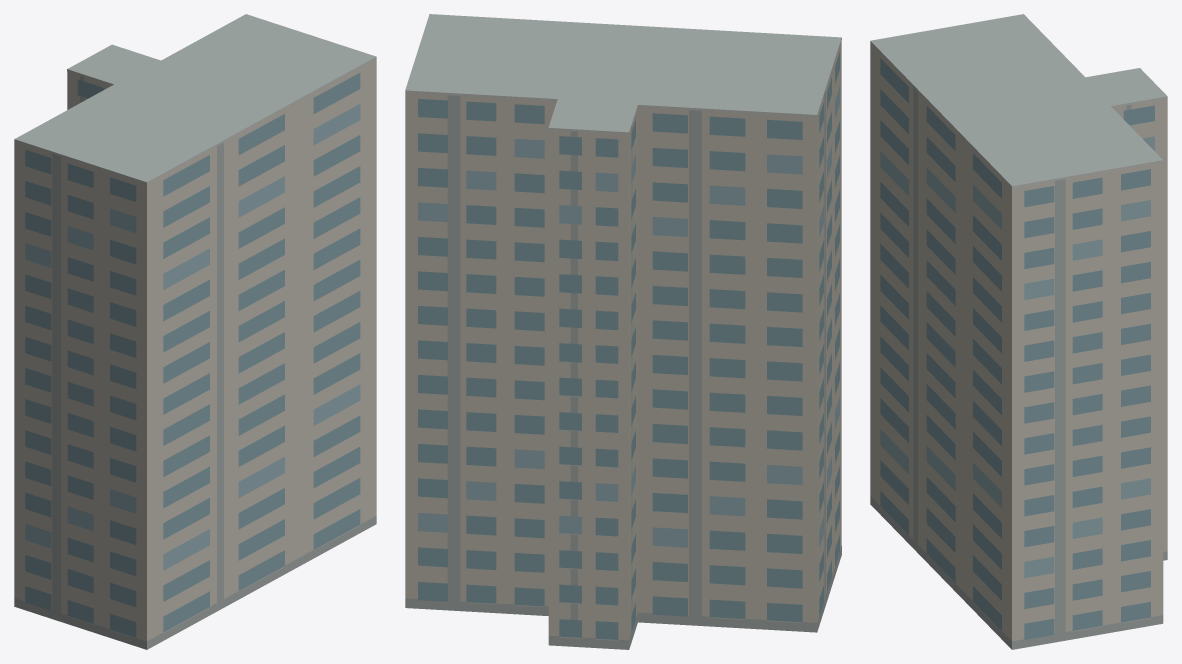
Rendered from residential-bfe4bebb-7709-4944-b9e6-6a733da6e124.glb.
The picture shows the model from 3 angles, left to right: view 1: azimuth 30°, elevation 25°; view 2: azimuth 150°, elevation 25°; view 3: azimuth 270°, elevation 25°; orthographic projection. The views are drawn at different scales.
Parts seen in each view (by area): view 1: residential-bfe4bebb-7709-4944-b9e6-6a733da6e124.tmp; view 2: residential-bfe4bebb-7709-4944-b9e6-6a733da6e124.tmp; view 3: residential-bfe4bebb-7709-4944-b9e6-6a733da6e124.tmp.
Boxes of the visible parts, bbox=[...] form: residential-bfe4bebb-7709-4944-b9e6-6a733da6e124.tmp: bbox=[14, 14, 376, 649]; residential-bfe4bebb-7709-4944-b9e6-6a733da6e124.tmp: bbox=[405, 14, 841, 649]; residential-bfe4bebb-7709-4944-b9e6-6a733da6e124.tmp: bbox=[870, 14, 1167, 649].
Bounding box in the file's own units: 42.26 × 53 × 30.81.
